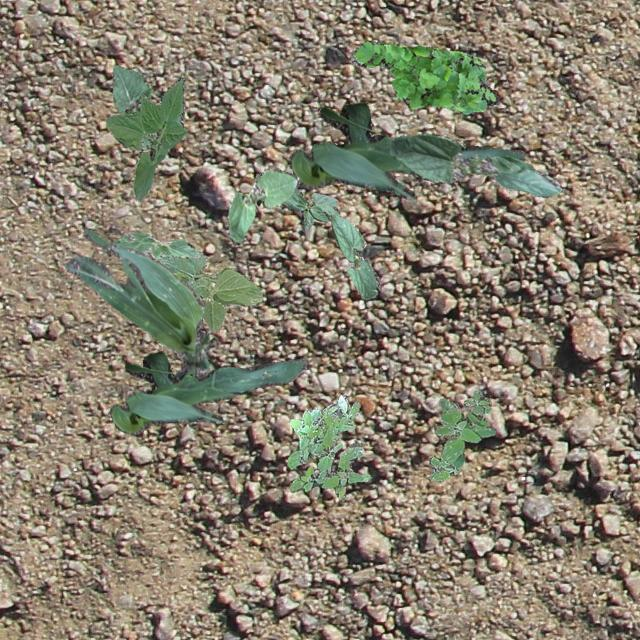crop: (288, 102, 524, 198), (64, 228, 210, 378), (108, 351, 306, 434), (388, 132, 562, 196), (104, 74, 186, 200), (158, 250, 262, 330), (226, 168, 300, 244), (328, 214, 379, 298), (110, 64, 150, 148), (112, 230, 198, 258), (284, 188, 338, 228)
weed: (348, 40, 496, 114), (286, 394, 369, 499), (428, 390, 494, 480)
